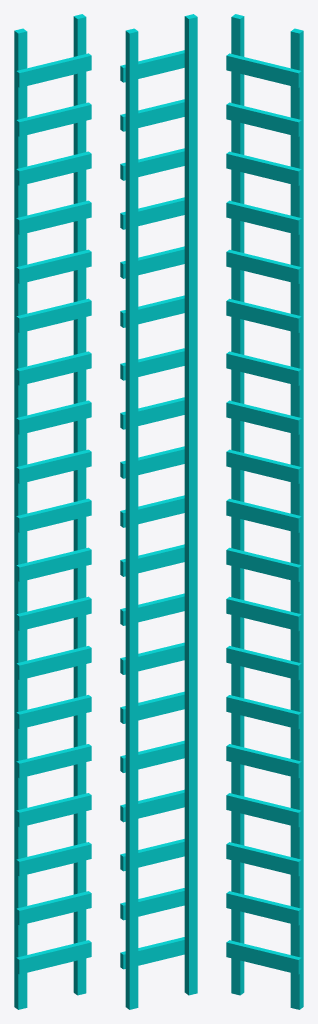
Rendered from SM_Windmill_Wood_stair_02.fbx.
The picture shows the model from 3 angles, left to right: view 1: azimuth 30°, elevation 25°; view 2: azimuth 210°, elevation 25°; view 3: azimuth 330°, elevation 25°; orthographic projection.
Visible parts, largest first — view 1: SM_Windmill_Wood_stair_02; view 2: SM_Windmill_Wood_stair_02; view 3: SM_Windmill_Wood_stair_02.
Boxes of the visible parts, box(x1,y1,x2,y2) form: SM_Windmill_Wood_stair_02: box(14, 14, 91, 1009); SM_Windmill_Wood_stair_02: box(120, 14, 197, 1009); SM_Windmill_Wood_stair_02: box(226, 14, 303, 1009).
Size of the model in its own units: 64.76 by 836 by 11.07.
